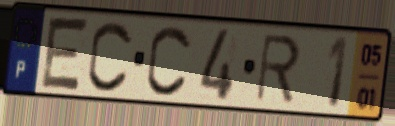1: (325, 34, 351, 113)
4: (197, 26, 236, 104)
C: (85, 18, 136, 95), (144, 22, 194, 100)
E: (37, 14, 92, 94)
R: (253, 32, 303, 106)
